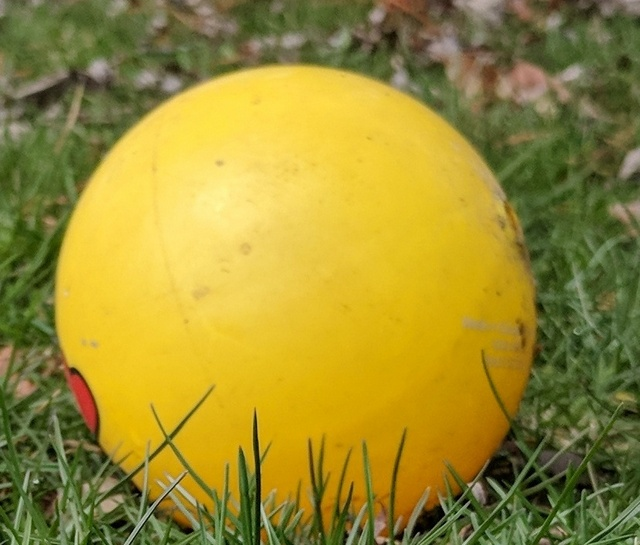ball: (54, 61, 542, 545)
